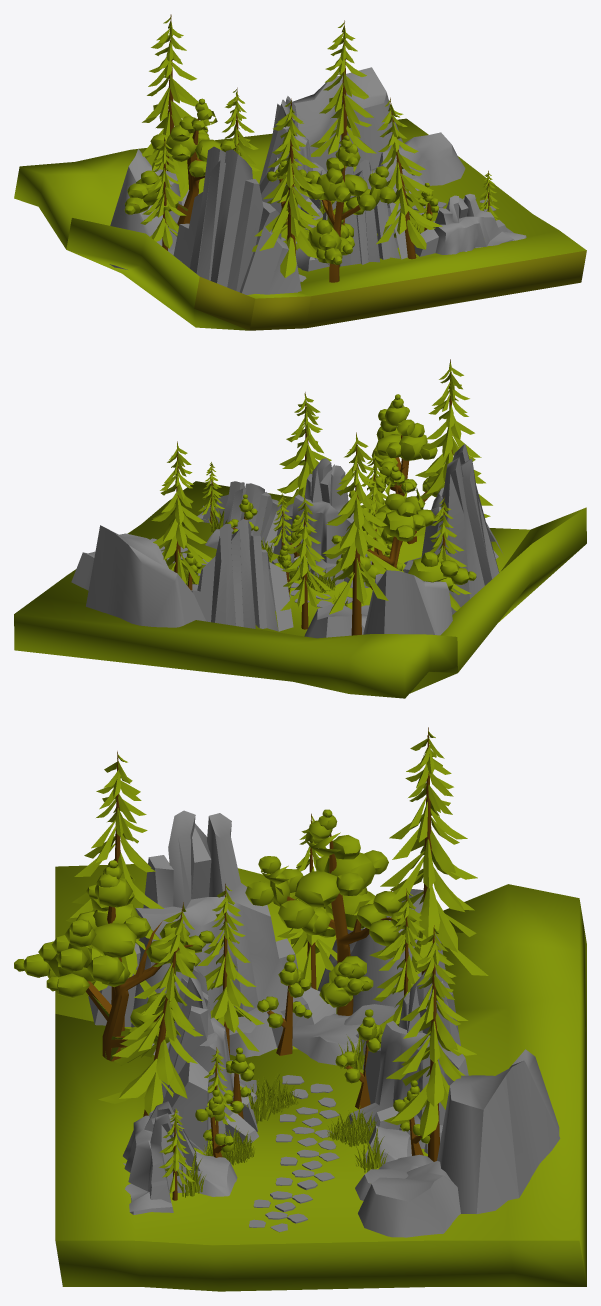
The model's file is low_poly_environment_compressed-v1(1).glb.
The picture shows the model from 3 angles, top to bottom: view 1: azimuth 30°, elevation 25°; view 2: azimuth 150°, elevation 25°; view 3: azimuth 270°, elevation 25°; orthographic projection. The views are drawn at different scales.
Visible parts, largest first — view 1: Object_5, Object_8, Object_4, Object_6; view 2: Object_5, Object_8, Object_4, Object_6, Object_2; view 3: Object_5, Object_8, Object_4, Object_6, Object_2, Object_7, Object_3.
Part boxes in pixels (left/top/right/bottom): Object_5: left=109, top=16, right=526, bottom=294; Object_8: left=14, top=118, right=586, bottom=330; Object_4: left=125, top=14, right=497, bottom=264; Object_6: left=150, top=25, right=498, bottom=249; Object_5: left=71, top=362, right=502, bottom=638; Object_8: left=14, top=481, right=586, bottom=698; Object_4: left=152, top=359, right=492, bottom=635; Object_6: left=151, top=382, right=471, bottom=610; Object_2: left=186, top=419, right=420, bottom=606; Object_5: left=14, top=730, right=560, bottom=1237; Object_8: left=55, top=864, right=586, bottom=1291; Object_4: left=23, top=727, right=488, bottom=1200; Object_6: left=87, top=745, right=476, bottom=1196; Object_2: left=64, top=865, right=380, bottom=1192; Object_7: left=177, top=831, right=385, bottom=1193; Object_3: left=182, top=1061, right=375, bottom=1196.
Bounding box in the file's own units: 54.11 × 33.06 × 47.31.
Materials: 1 (1 with a texture image).
